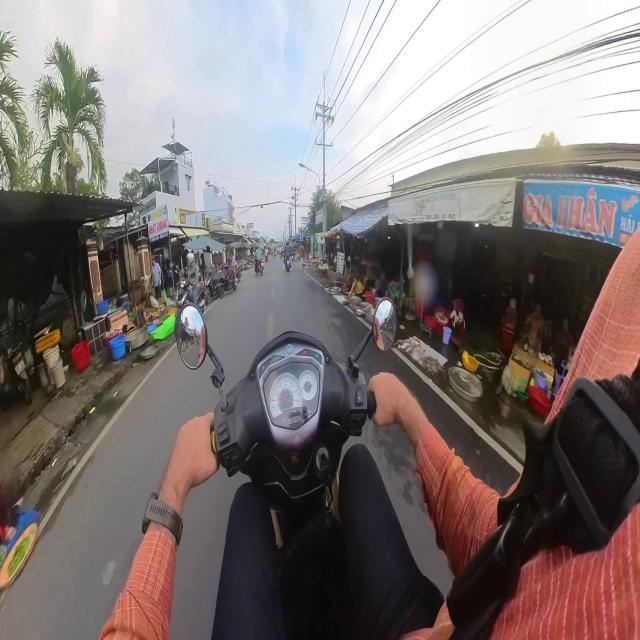motorcycle: (176, 299, 396, 637), (220, 264, 237, 296), (255, 258, 264, 275), (285, 256, 290, 271)
